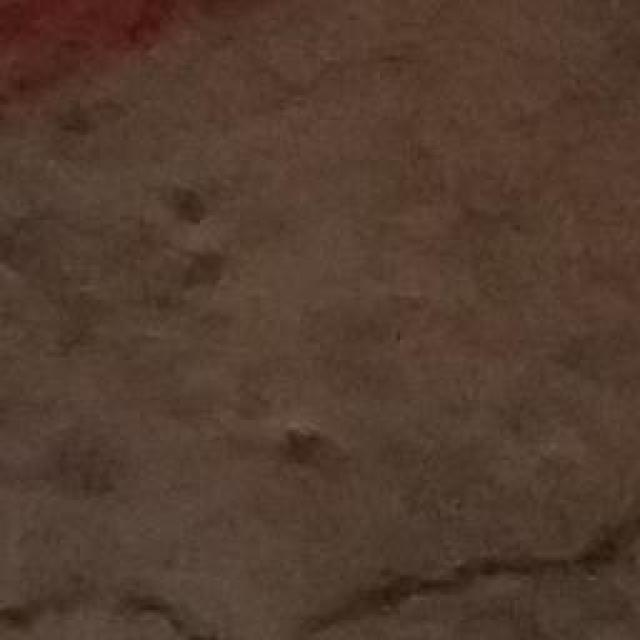Transverse: (11, 501, 640, 640)
